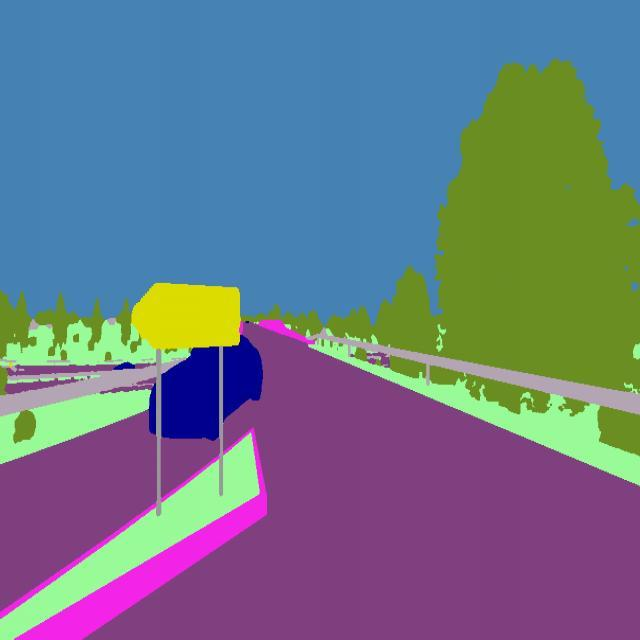safe: (147, 330, 267, 444)
